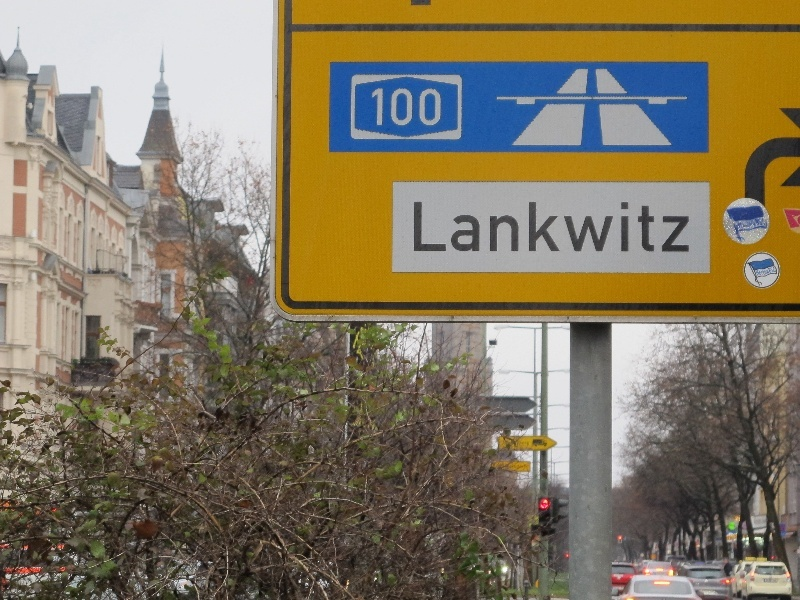text: (417, 200, 432, 256), (433, 200, 448, 256), (449, 200, 464, 256), (465, 200, 480, 256), (481, 200, 496, 256), (497, 200, 512, 256), (513, 200, 528, 256), (529, 200, 544, 256), (545, 200, 560, 256), (561, 200, 576, 256), (577, 200, 592, 256), (593, 200, 608, 256), (609, 200, 624, 256), (625, 200, 640, 256), (641, 200, 656, 256), (657, 200, 672, 256), (673, 200, 688, 256), (385, 87, 400, 129), (401, 87, 416, 129), (417, 87, 432, 129), (370, 87, 384, 129), (433, 87, 443, 129), (412, 200, 416, 256), (756, 266, 768, 277), (689, 200, 691, 256), (769, 266, 776, 277)
